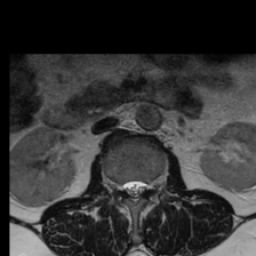CCS_normal: (130, 171, 138, 207)
LFS_stenosis: (146, 172, 155, 198)
LLS_normal: (138, 172, 146, 198)
RFS_normal: (114, 175, 122, 196)
RLS_normal: (122, 174, 130, 198)
